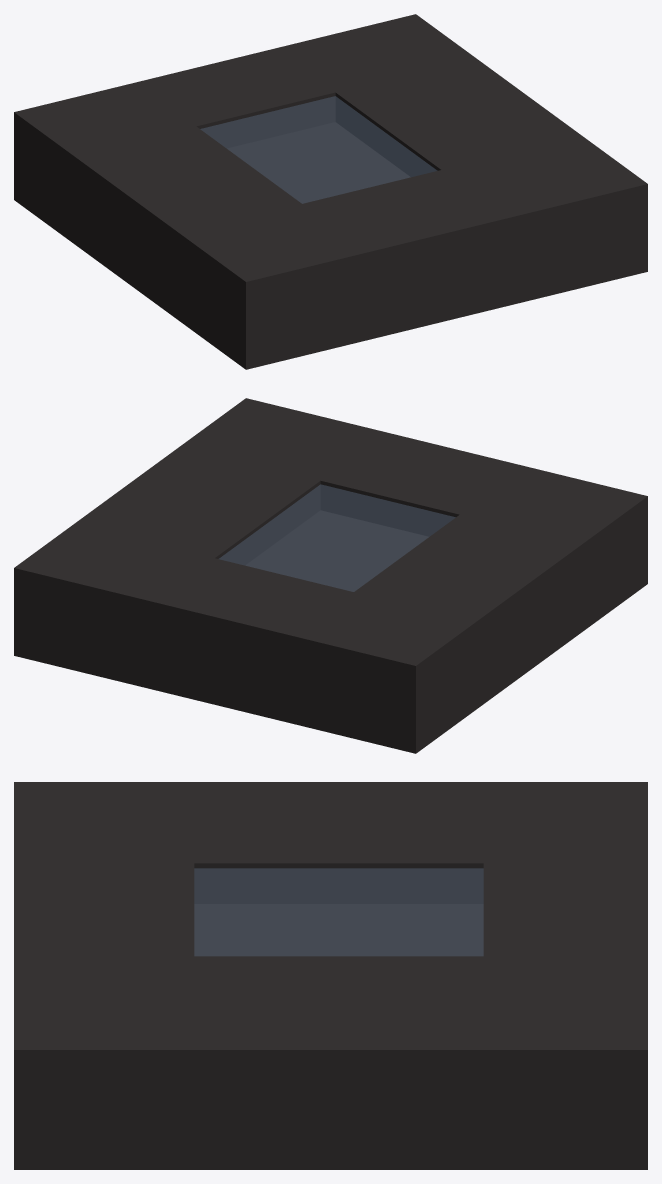
Rendered from Land2.fbx.
3 views of the same model, one above another, from view 1: azimuth 30°, elevation 25°; view 2: azimuth 150°, elevation 25°; view 3: azimuth 270°, elevation 25° (orthographic). The views are drawn at different scales.
Visible parts, largest first — view 1: Water1; view 2: Water1; view 3: Water1.
Part boxes in pixels (box(x1,y1,x2,y2)): Water1: box(14, 14, 647, 369); Water1: box(14, 398, 647, 753); Water1: box(14, 782, 647, 1169).
Bounding box in the file's own units: 75.61 × 15.79 × 75.61.
